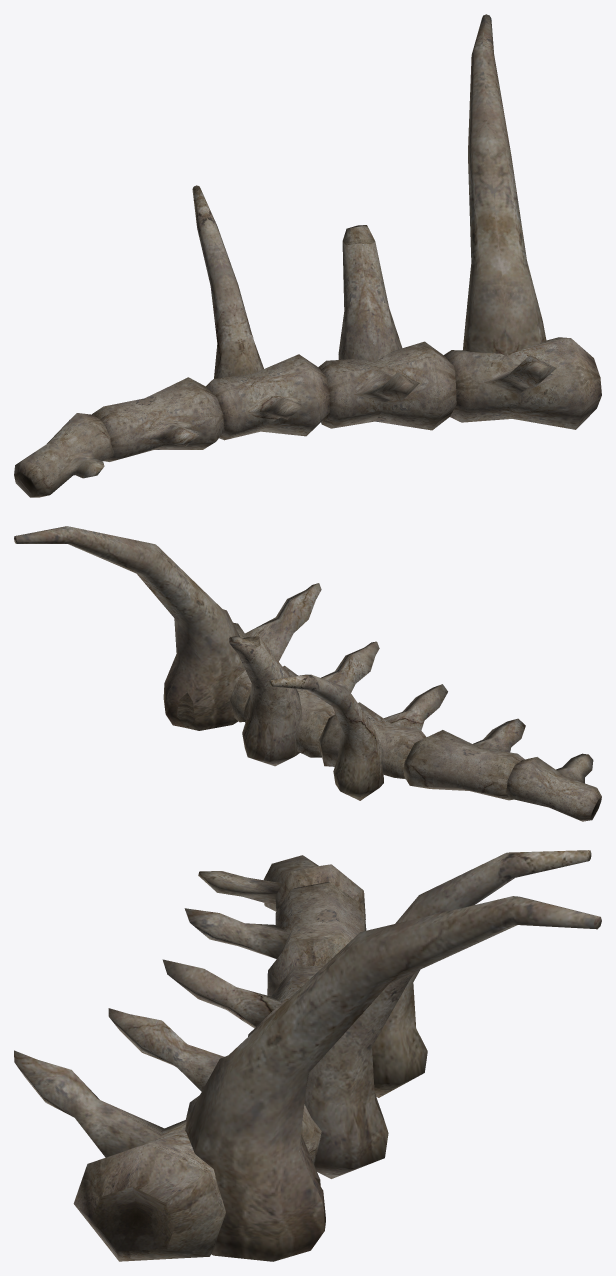
Rendered from Co_A_DinoBone04.FBX.
3 views of the same model, one above another, from view 1: azimuth 30°, elevation 25°; view 2: azimuth 150°, elevation 25°; view 3: azimuth 270°, elevation 25° (orthographic). The views are drawn at different scales.
Visible parts, largest first — view 1: Co_A_DinoBone04; view 2: Co_A_DinoBone04; view 3: Co_A_DinoBone04.
Boxes of the visible parts, <box> form: Co_A_DinoBone04: <box>14,14,601,497</box>; Co_A_DinoBone04: <box>14,526,601,821</box>; Co_A_DinoBone04: <box>14,850,601,1261</box>.
Bounding box in the file's own units: 1266 × 597 × 777.
